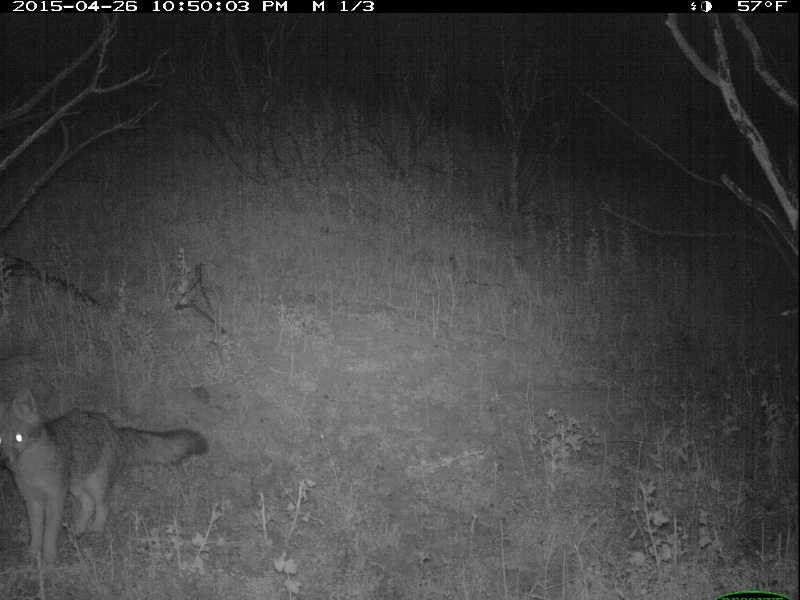fox: (1, 383, 211, 563)
